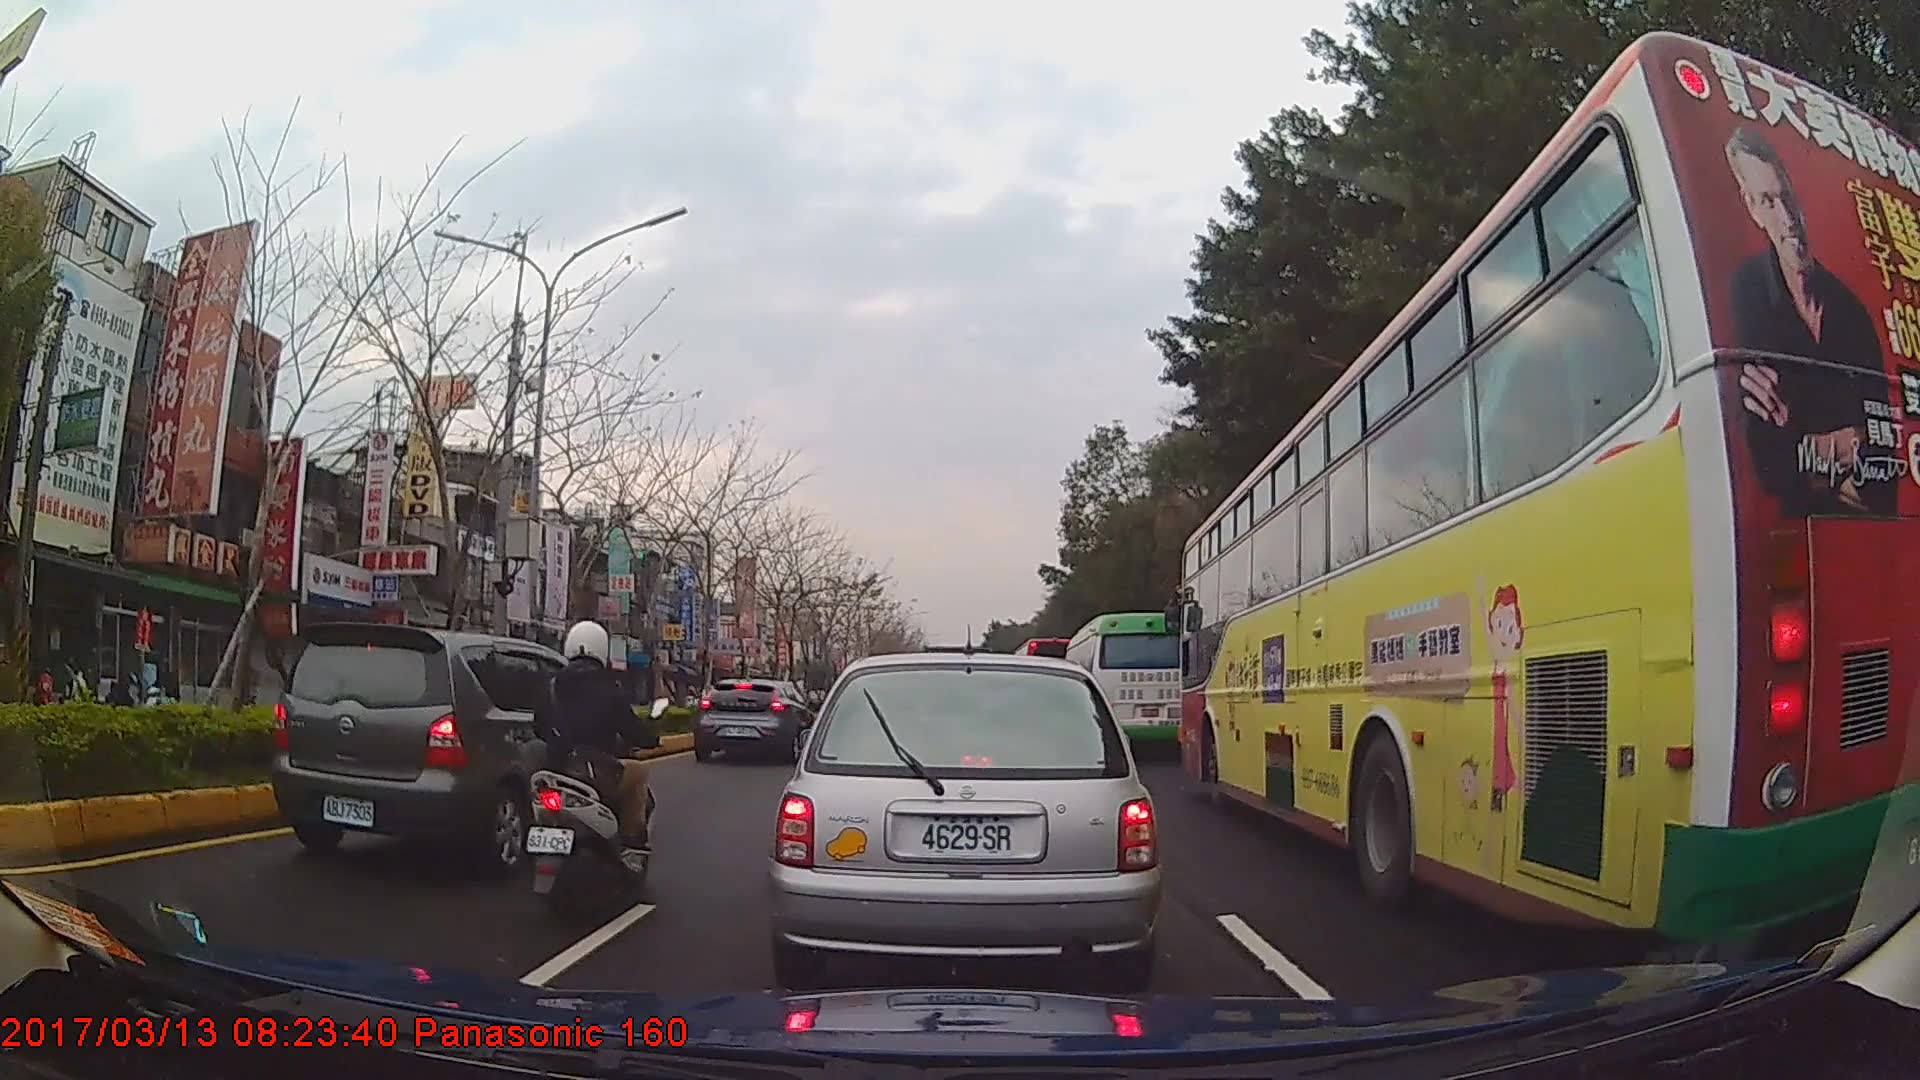rider: (523, 617, 662, 915), (144, 656, 180, 704)
vehicle: (1178, 24, 1920, 949), (771, 650, 1158, 985), (271, 619, 634, 872), (1061, 610, 1192, 761), (692, 676, 817, 765)
